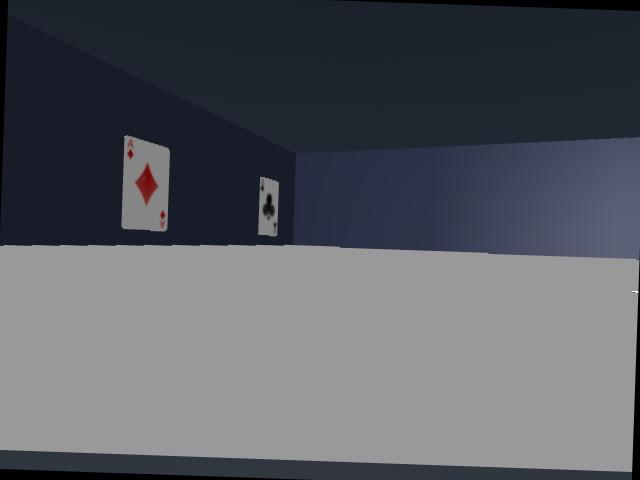club: (258, 177, 278, 235)
diamond: (121, 136, 169, 231)
